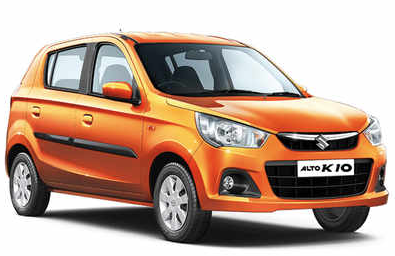car: (5, 27, 390, 245)
